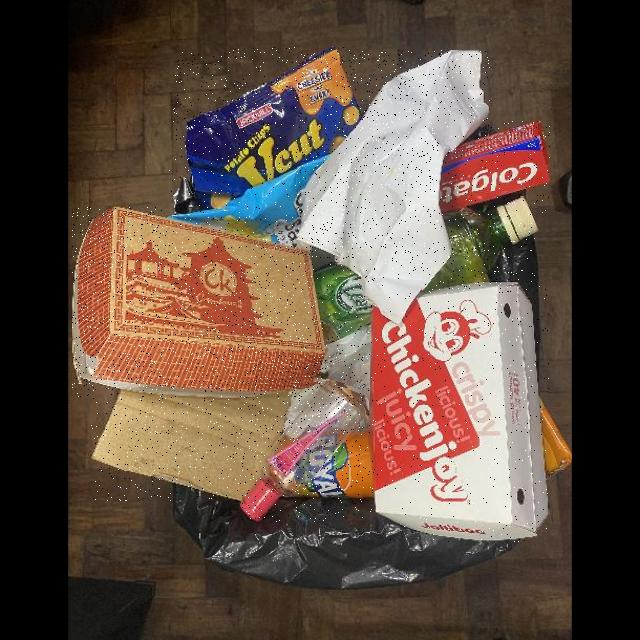metal: (299, 431, 375, 498)
paper: (297, 50, 490, 325), (72, 207, 326, 397), (371, 283, 549, 542), (91, 389, 293, 501), (438, 121, 550, 213), (285, 328, 375, 439)
plastic: (241, 385, 363, 522), (422, 198, 538, 294), (313, 264, 372, 344)
wrapper: (174, 47, 362, 214), (169, 156, 330, 247)
